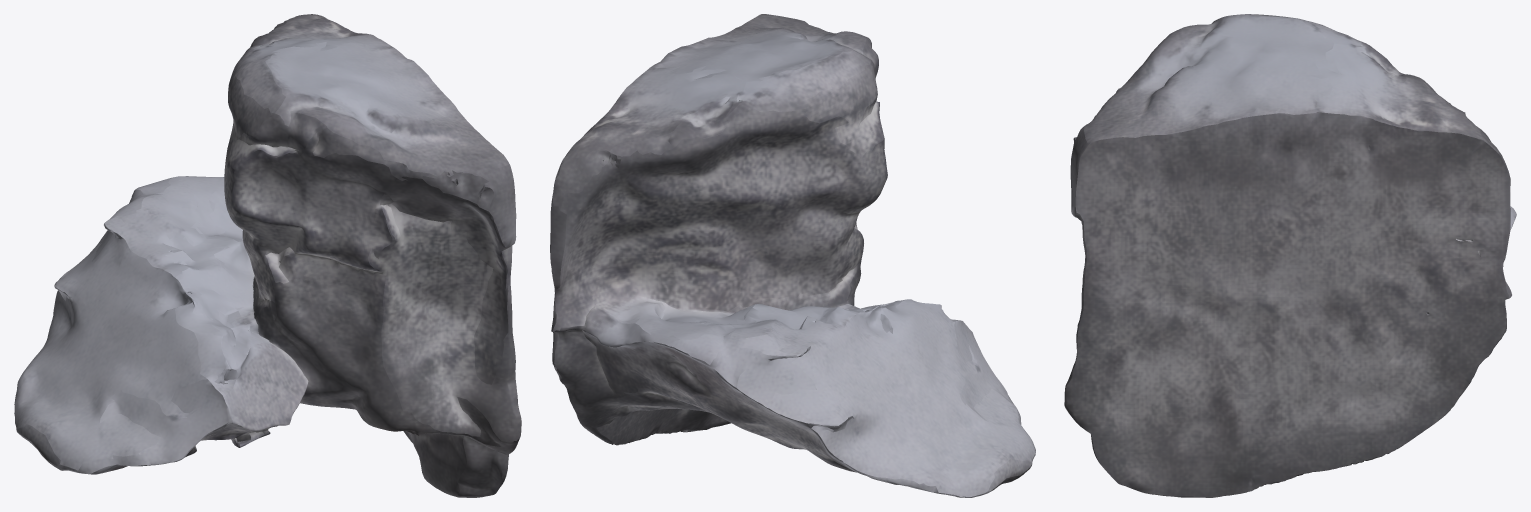
3 views of the same model, side by side, from view 1: azimuth 30°, elevation 25°; view 2: azimuth 150°, elevation 25°; view 3: azimuth 270°, elevation 25° (orthographic). The views are drawn at different scales.
Visible parts, largest first — view 1: world; view 2: world; view 3: world.
Boxes of the visible parts, x1,y1,x2,y2 form: world: [14, 14, 521, 497]; world: [550, 14, 1035, 497]; world: [1064, 14, 1516, 497].
Size of the model in its own units: 1.35 by 1.5 by 1.49.
1 material, 1 textured.
